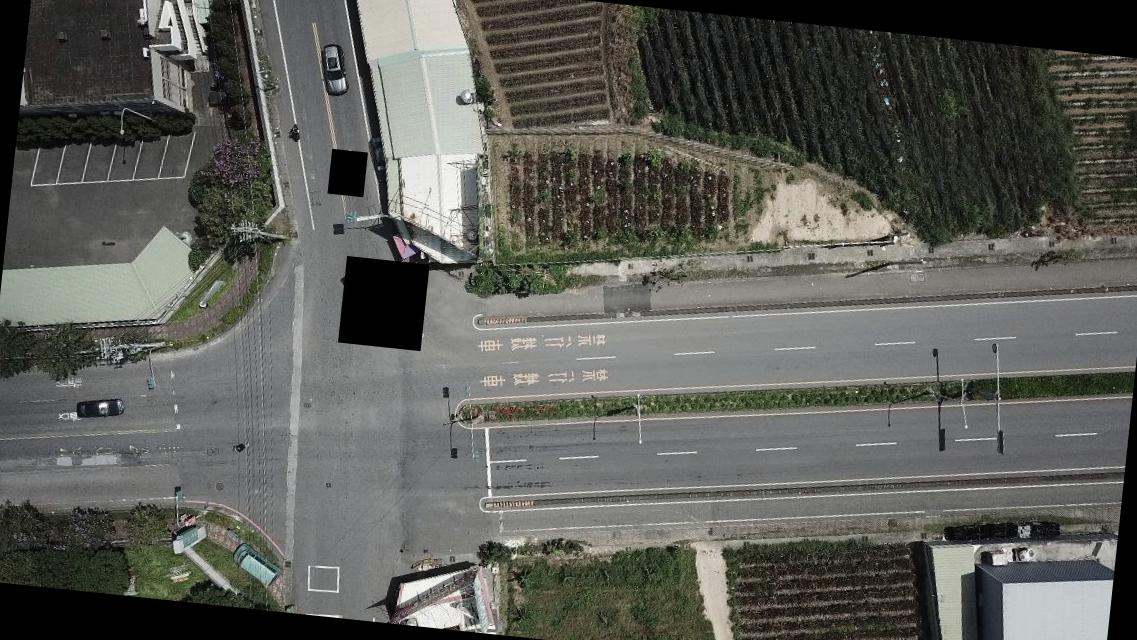vehicle: (226, 543, 282, 587), (318, 42, 354, 98), (74, 395, 126, 420)
